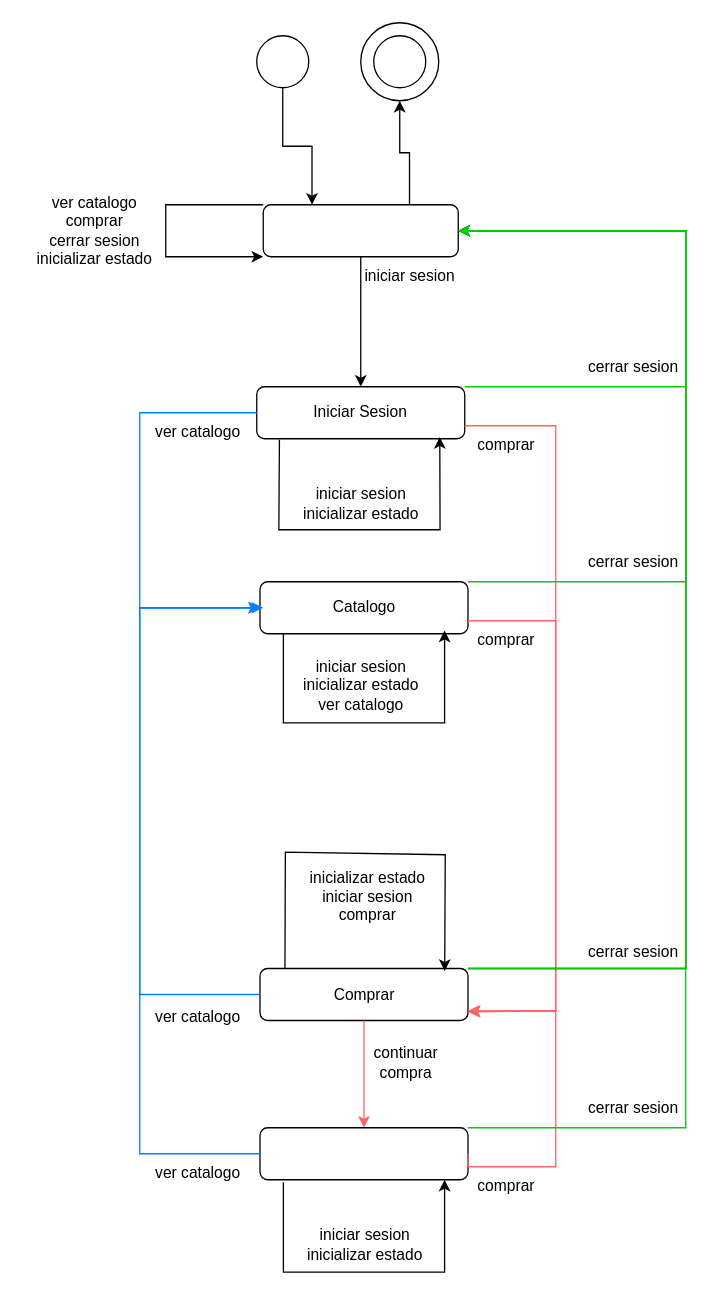
Image size: 719x1305. Some labels were removed from this diagram. Each missing label, with the centre of its shape:
CompraSegura: point (363, 1153)
Iniciar: point (360, 230)
